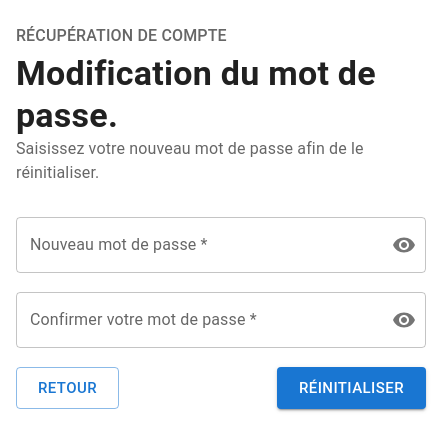
Test: PasswordUpdatePage › shows validation error when passwords do not match
The image size is (444, 439).
Type "password123" into the password field labelled "Nouveau mot de passe *" at point(196, 245), box [16,217,376,273]
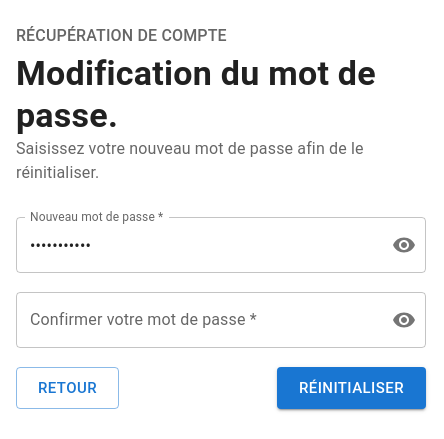
Type "different456" into the password field labelled "Confirmer votre mot de passe *" at point(196, 320), box [16,292,376,348]
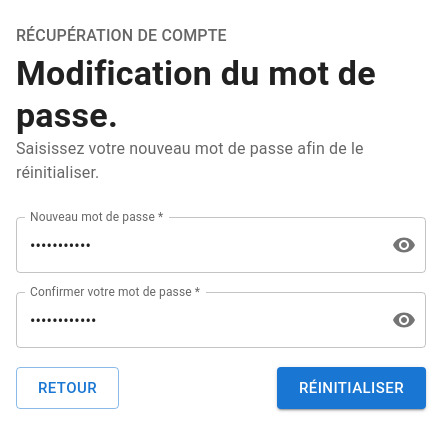
Click the button "Réinitialiser" at point(351, 388), box [277,367,426,410]
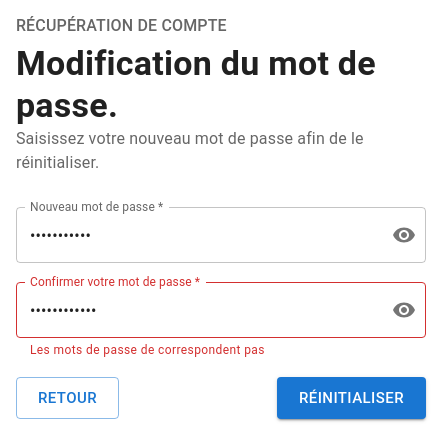
Expected: the text "Les mots de passe de correspondent pas" is shown, [30,343,265,357]
